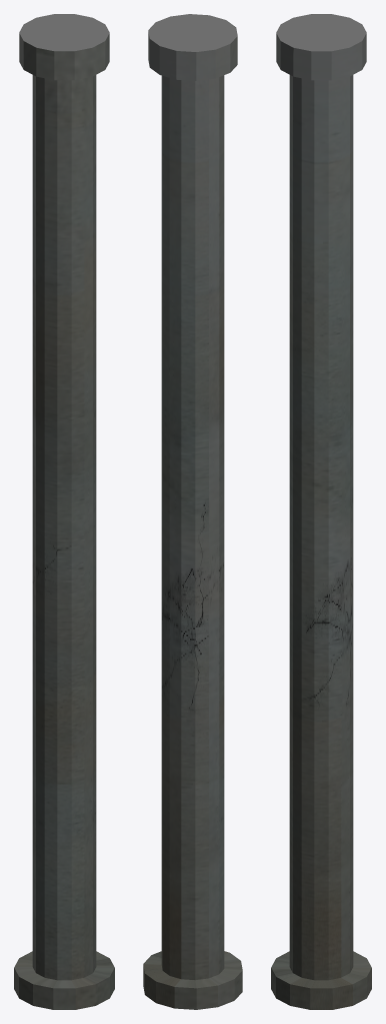
File: crackedpipe6.fbx
The picture shows the model from 3 angles, left to right: view 1: azimuth 90°, elevation 25°; view 2: azimuth 210°, elevation 25°; view 3: azimuth 270°, elevation 25°; orthographic projection.
Visible parts, largest first — view 1: Cylinder; view 2: Cylinder; view 3: Cylinder.
Part boxes in pixels (x1=…): Cylinder: x1=14, y1=14, x2=114, y2=1009; Cylinder: x1=143, y1=14, x2=242, y2=1009; Cylinder: x1=271, y1=14, x2=371, y2=1009.
Bounding box in the file's own units: 31.07 × 334 × 31.87.
Materials: 1 (1 with a texture image).
